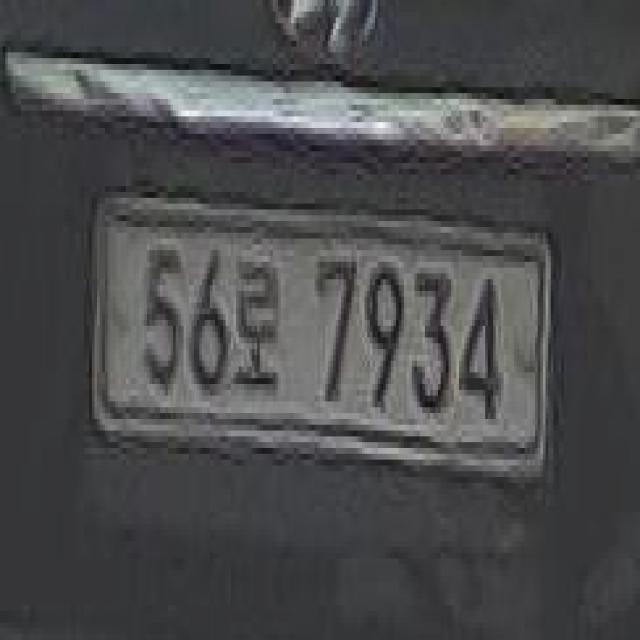illegal_plate: (89, 185, 553, 497)
